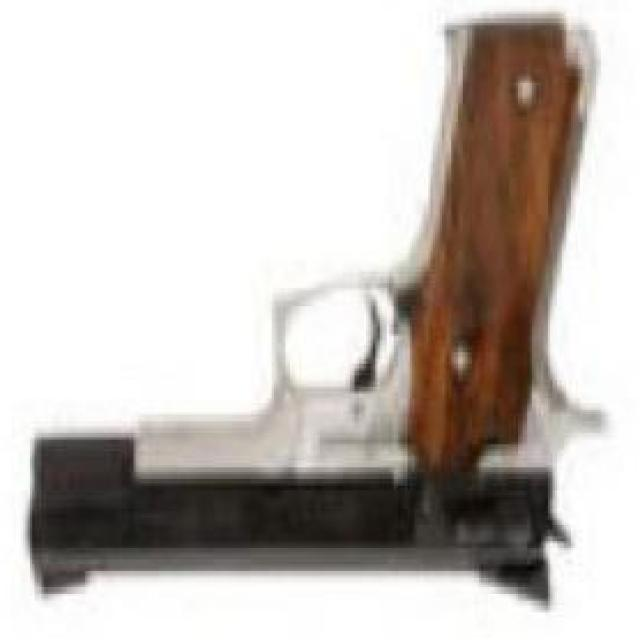pistol: (23, 1, 614, 610)
